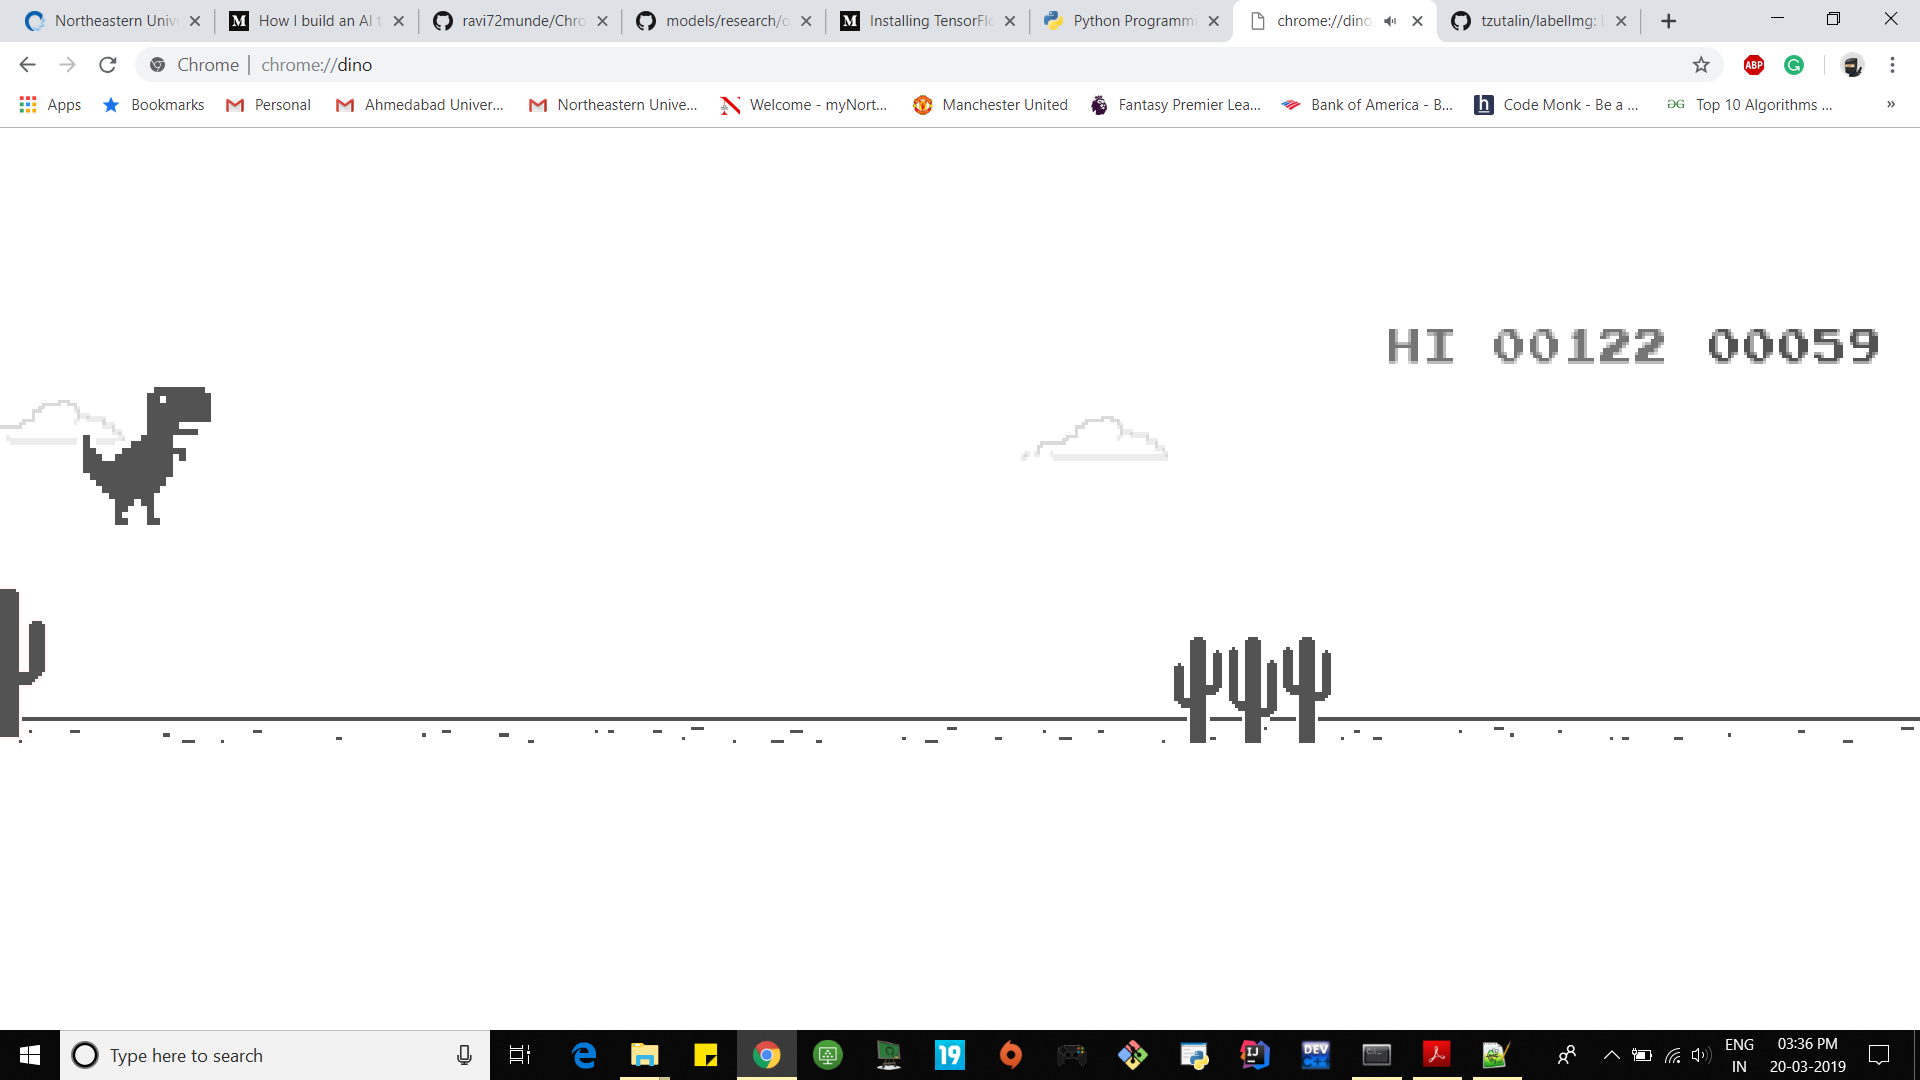cactus-1: (1, 585, 44, 738)
cactus-3: (1164, 626, 1337, 746)
dino: (78, 376, 215, 531)
